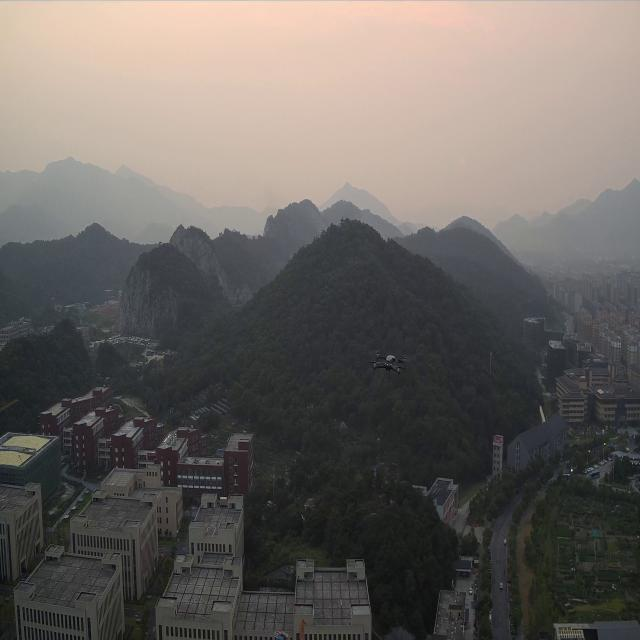UAV: (370, 348, 408, 376)
